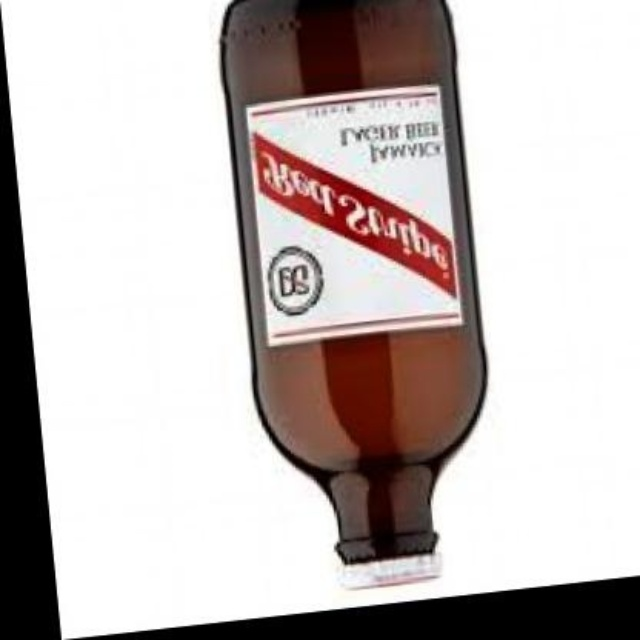trash: (222, 0, 485, 569)
